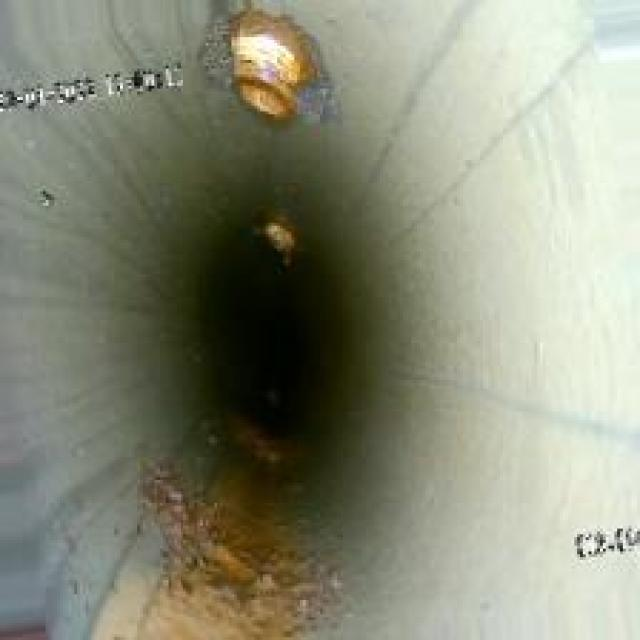ferrule: (217, 0, 337, 123), (246, 212, 300, 257)
